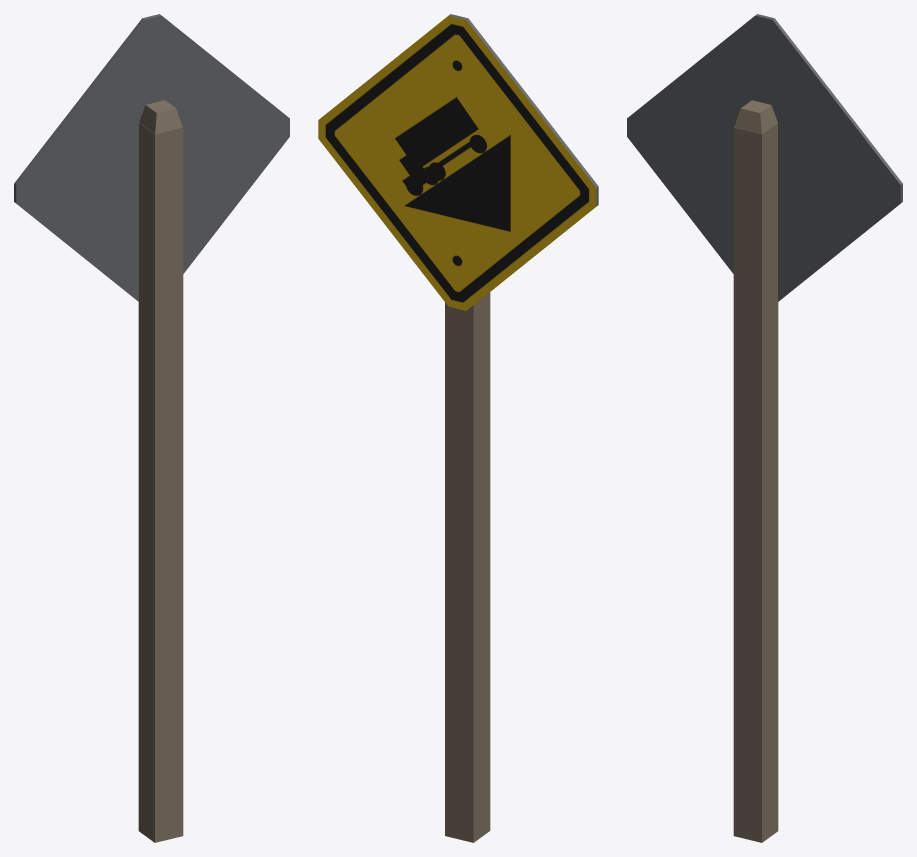
Rendered from sign-grade.glb.
The picture shows the model from 3 angles, left to right: view 1: azimuth 30°, elevation 25°; view 2: azimuth 150°, elevation 25°; view 3: azimuth 330°, elevation 25°; orthographic projection.
Visible parts, largest first — view 1: sign-grade; view 2: sign-grade; view 3: sign-grade.
Boxes of the visible parts, bbox=[...] form: sign-grade: bbox=[14, 14, 289, 842]; sign-grade: bbox=[318, 14, 598, 842]; sign-grade: bbox=[627, 14, 902, 842].
Size of the model in its own units: 0.8592 by 2.43 by 0.099.
Materials: 3 (1 with a texture image).
